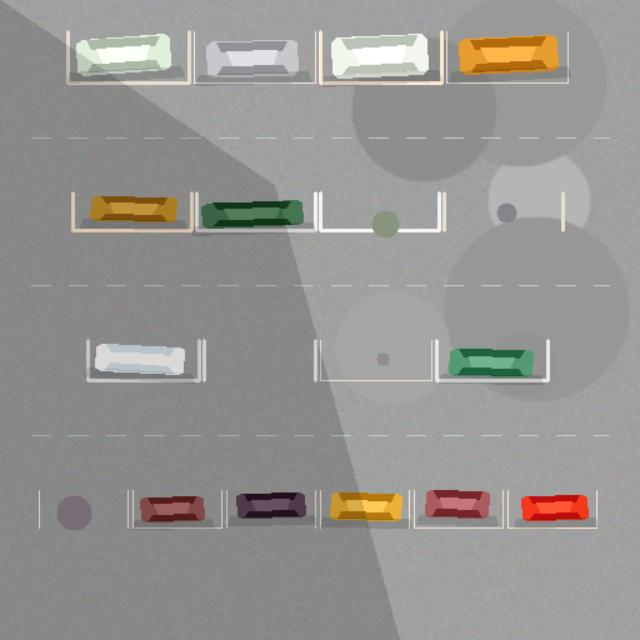space-empty: (320, 192, 439, 230), (444, 192, 563, 230), (204, 340, 315, 380), (320, 340, 431, 380), (39, 490, 128, 528)
space-occupied: (67, 31, 189, 82), (194, 31, 315, 82), (320, 31, 441, 82), (446, 31, 567, 82), (196, 192, 315, 230), (73, 192, 191, 230), (436, 340, 548, 380), (88, 340, 199, 380), (132, 490, 221, 528), (226, 490, 315, 528), (320, 490, 409, 528), (414, 490, 502, 528), (508, 490, 596, 528)
